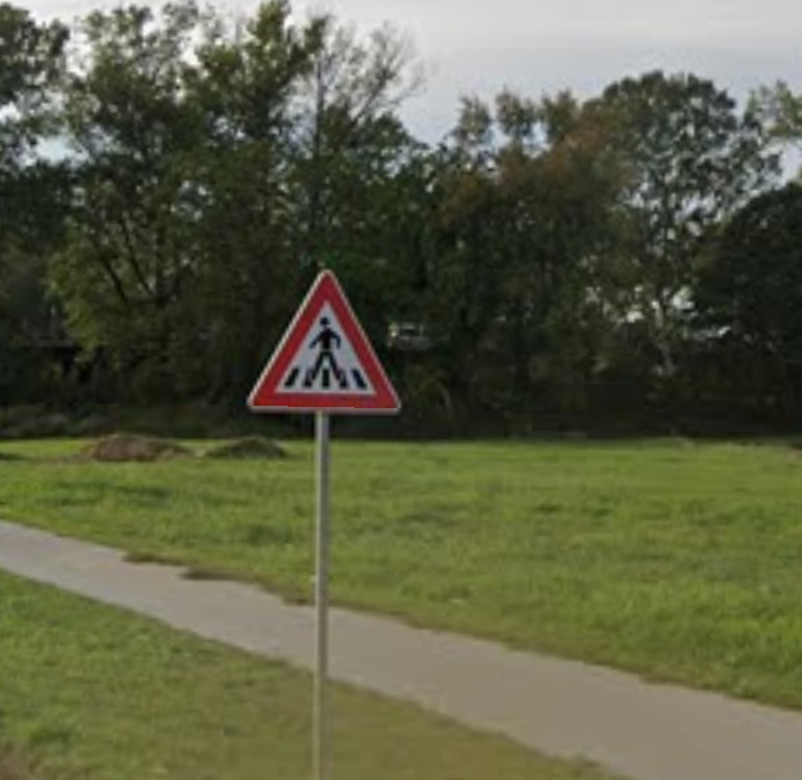Približavanje pješačkom prijelazu: (246, 268, 402, 413)
